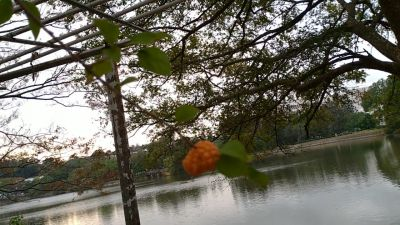eggs: (181, 140, 223, 176)
